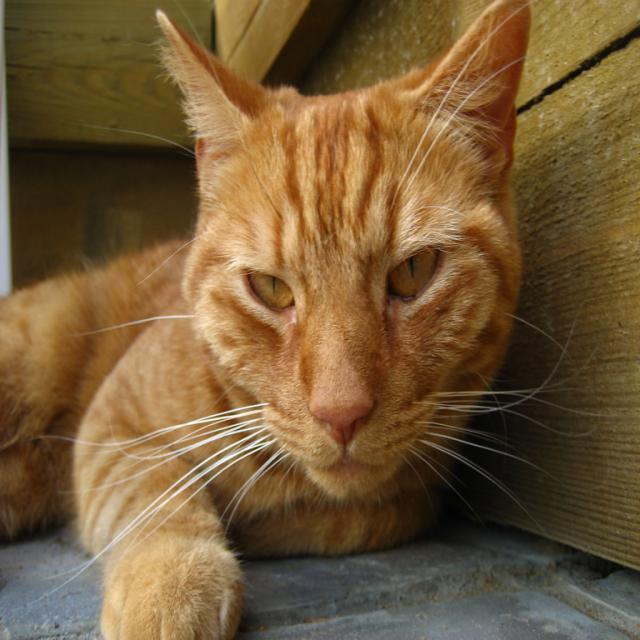cat: (2, 2, 611, 639)
